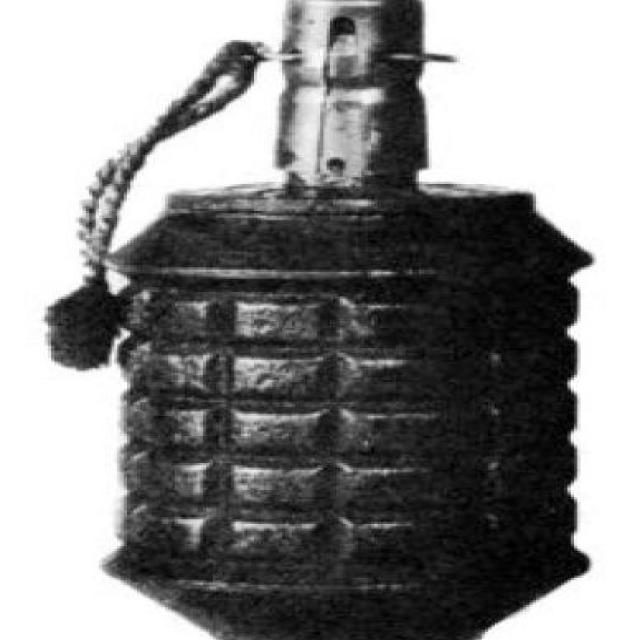grenade: (49, 1, 600, 640)
